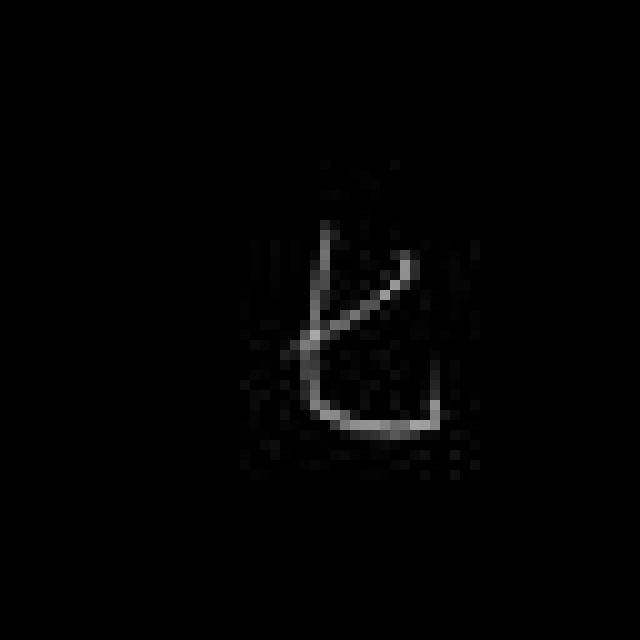7 -seven-: (288, 216, 453, 444)
